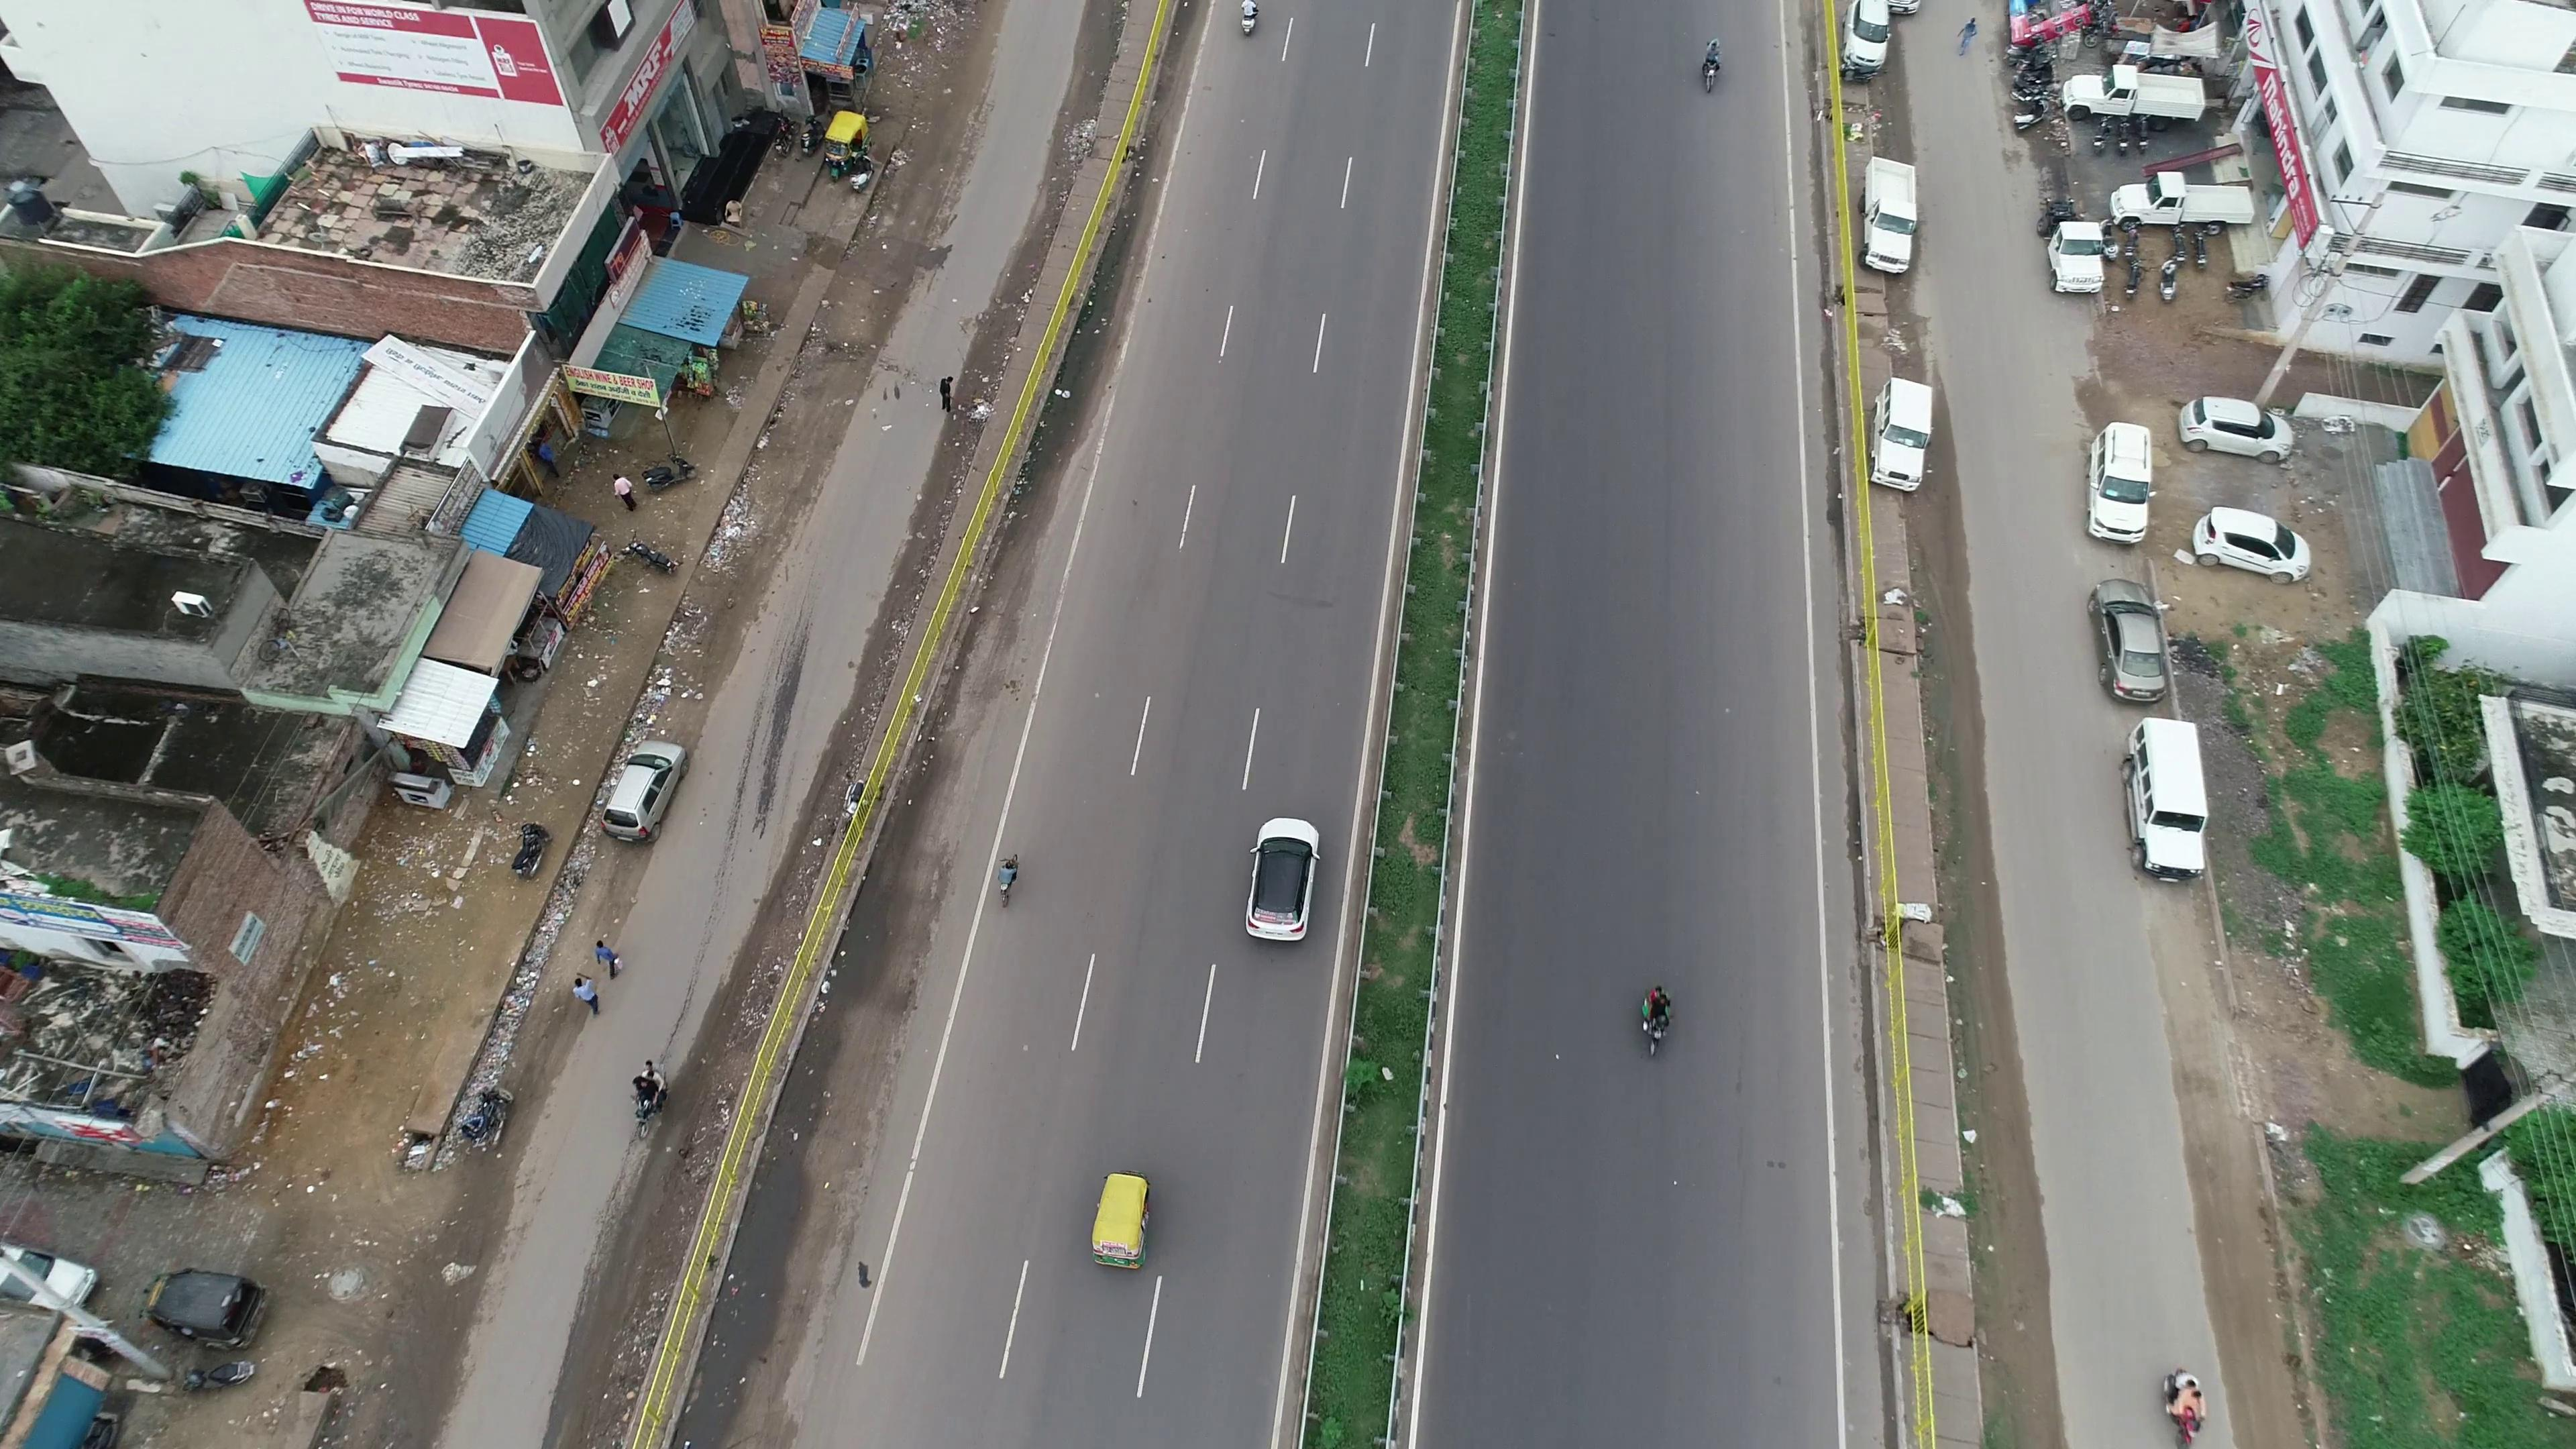Muddy_road: (515, 1145, 690, 1440), (1987, 1044, 2075, 1440), (1927, 718, 2031, 1035)
